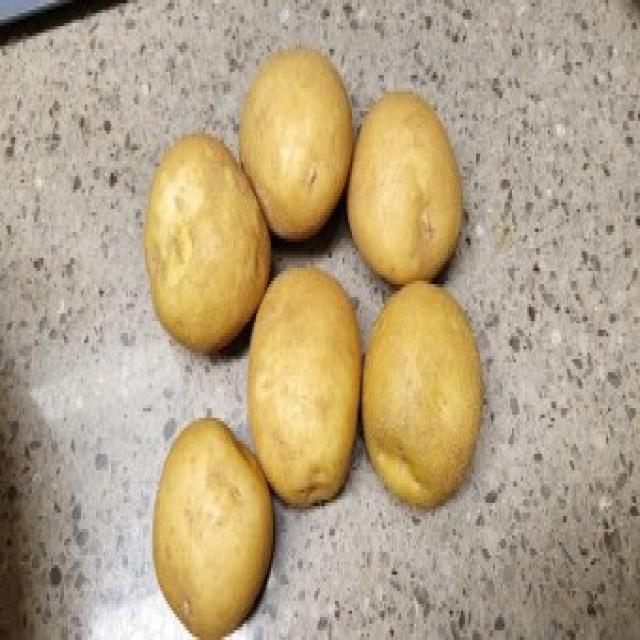potato: (362, 261, 483, 512), (247, 262, 363, 514), (142, 133, 273, 354), (349, 84, 467, 292), (240, 46, 356, 244)
